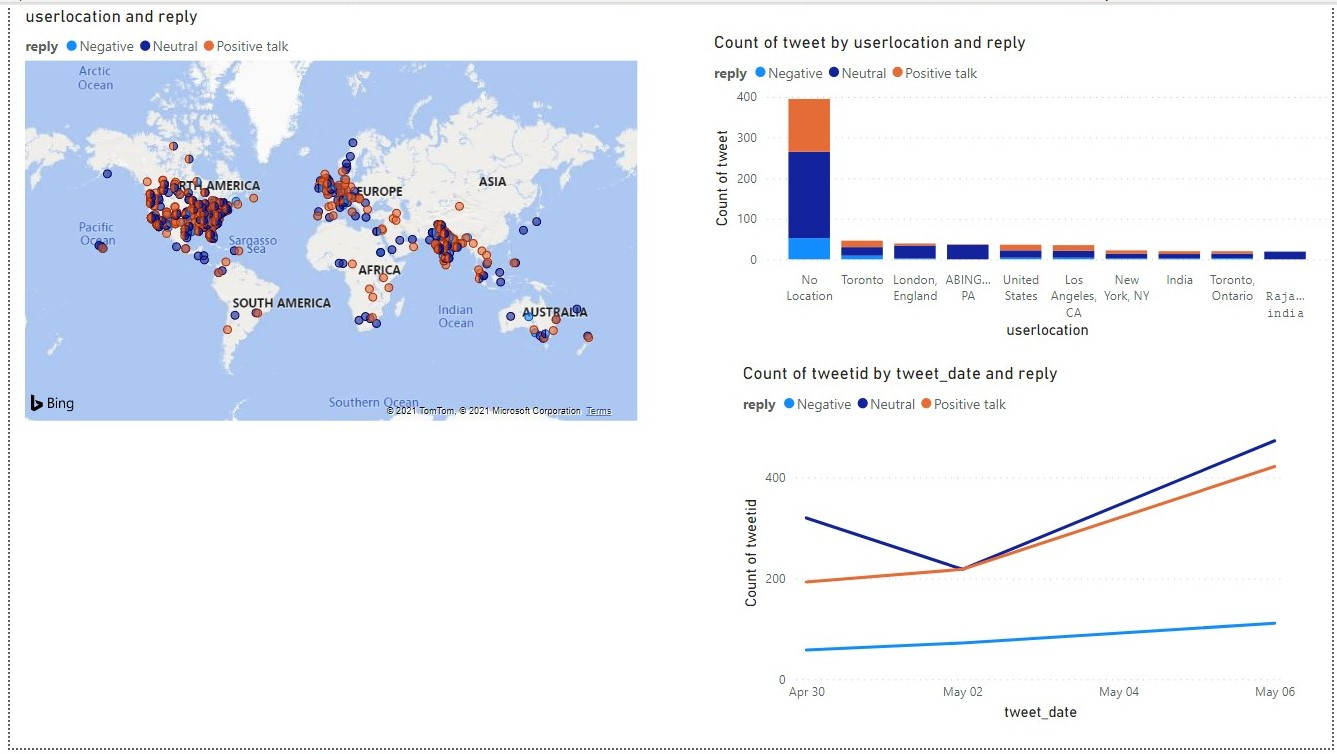

What the dashboard file says about the page in this screenshot:
{"tool":"powerbi","page":{"name":"Page 3","canvas":[1280,720],"ordinal":2},"visuals":[{"type":"map","fields":{"Category":["vaccine.userlocation"],"Series":["vaccine.reply"]},"box":[9.7,0,602.6,407.8],"z":0},{"type":"columnChart","fields":{"Category":["vaccine.userlocation"],"Y":["CountNonNull(vaccine.tweet)"],"Series":["vaccine.reply"]},"box":[676.4,25.4,603.8,302.5],"z":1000},{"type":"lineChart","fields":{"Category":["vaccine.tweet_date"],"Y":["CountNonNull(vaccine.tweetid)"],"Series":["vaccine.reply"]},"box":[704.5,346.1,545.2,351.6],"z":2000}]}

Visuals, with their boxes in screenshot pixels (x1, y1, x2, y2), scaled from the page's 1280x720 canvas onto the 1337x754 screenshot:
map - vaccine.userlocation x vaccine.reply: Rect(10, 0, 640, 427)
columnChart - vaccine.userlocation x CountNonNull(vaccine.tweet): Rect(707, 27, 1336, 343)
lineChart - vaccine.tweet_date x CountNonNull(vaccine.tweetid): Rect(736, 362, 1305, 731)
